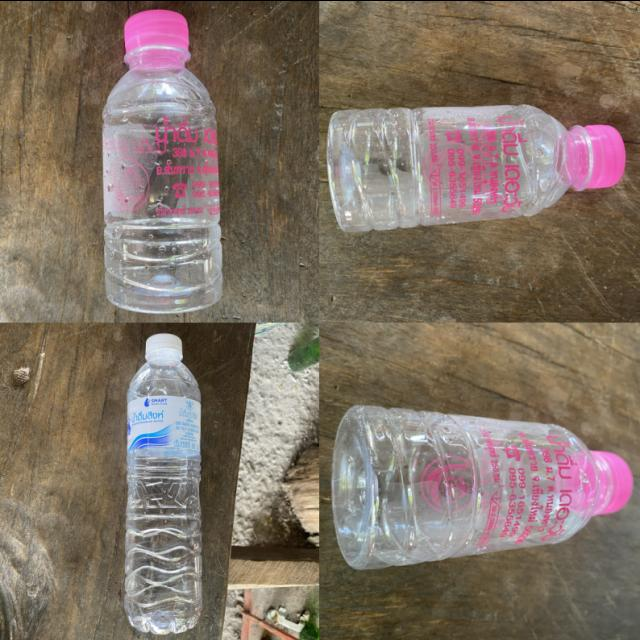plastik: (332, 405, 633, 568), (327, 104, 625, 231), (103, 11, 222, 310), (125, 333, 202, 634)
